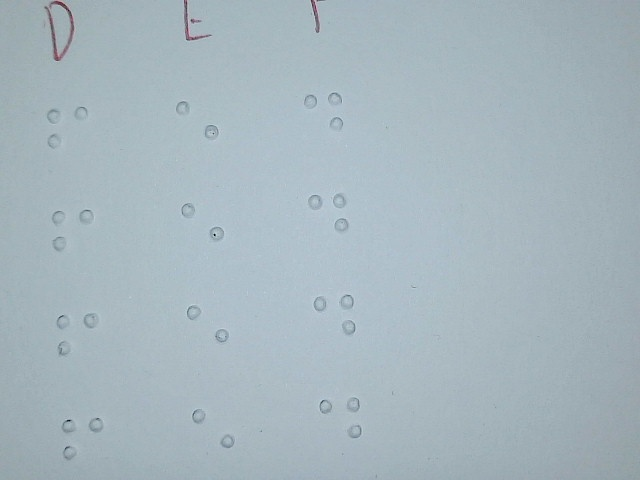D: (301, 77, 348, 163), (305, 176, 352, 262), (311, 279, 358, 365), (316, 382, 363, 468)
E: (173, 84, 223, 175), (178, 187, 228, 278), (183, 289, 233, 380)
F: (45, 91, 91, 177), (49, 193, 95, 279), (54, 298, 100, 384)
